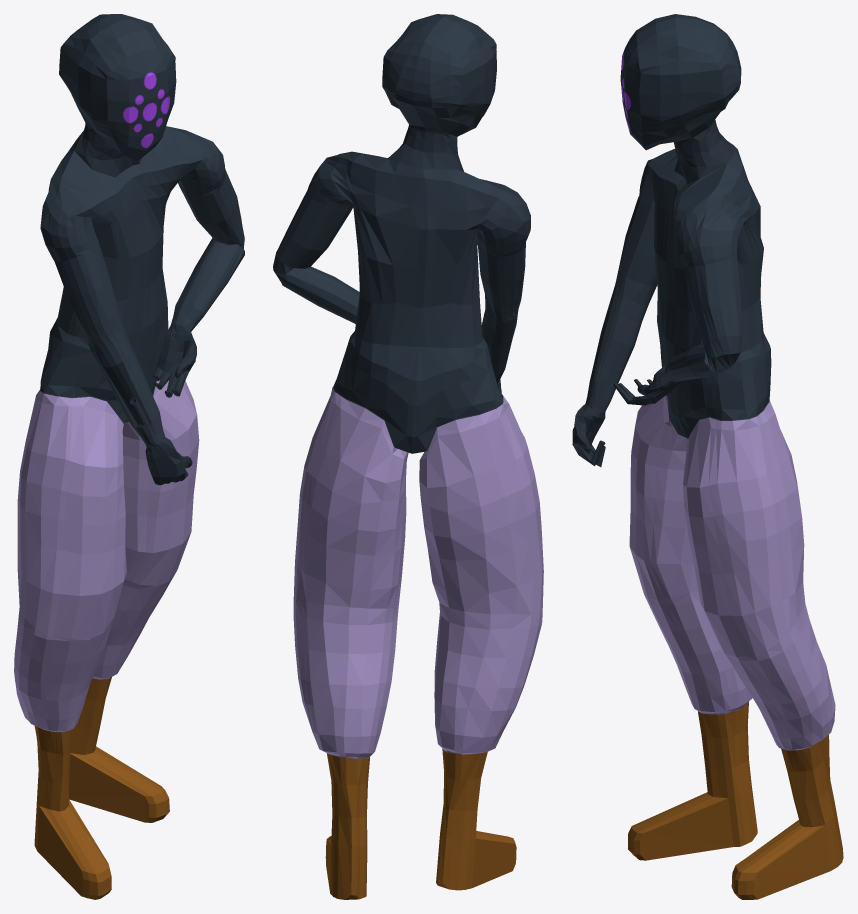
File: Oracle_Die_000002.obj
3 renders of one model, left to right at view 1: azimuth 30°, elevation 25°; view 2: azimuth 150°, elevation 25°; view 3: azimuth 270°, elevation 25°, orthographic.
Parts seen in each view (by area): view 1: Cube; view 2: Cube; view 3: Cube.
Part boxes in pixels (x1,y1,x2,y2): Cube: (14,14,244,899); Cube: (273,14,543,899); Cube: (572,14,843,899).
Size of the model in its own units: 1.17 by 3.97 by 1.14.
